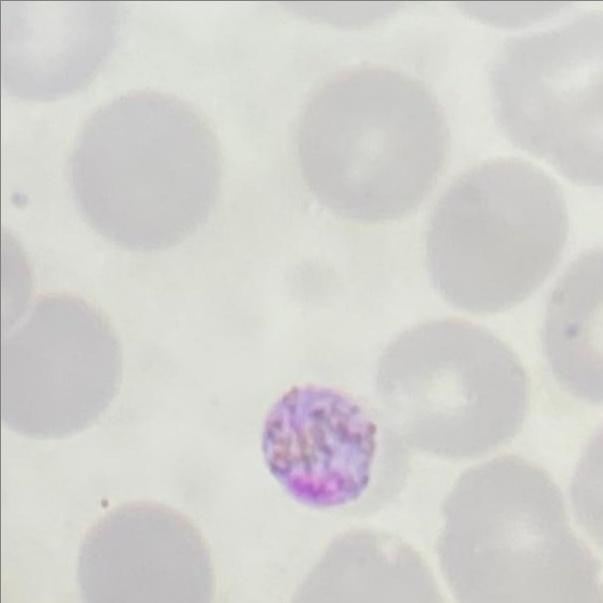Infected: (261, 385, 378, 507)
Uninfected: (299, 65, 452, 225), (73, 94, 223, 248), (431, 160, 575, 315), (381, 320, 535, 455), (0, 290, 125, 442)
